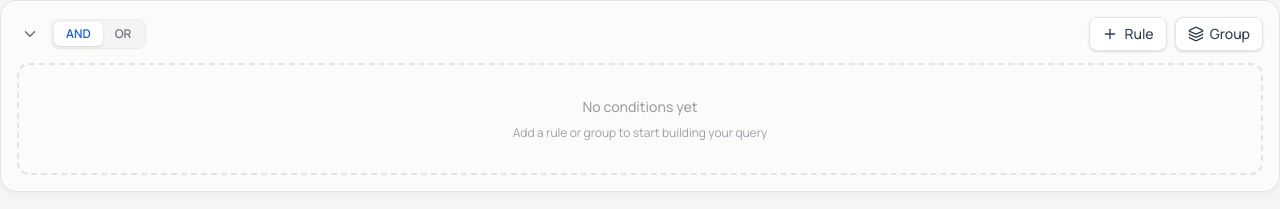
Test: QueryBuilder Integration › can add a rule to the root group
Click the button "Rule": x=1128, y=34 [1090,17,1167,51]
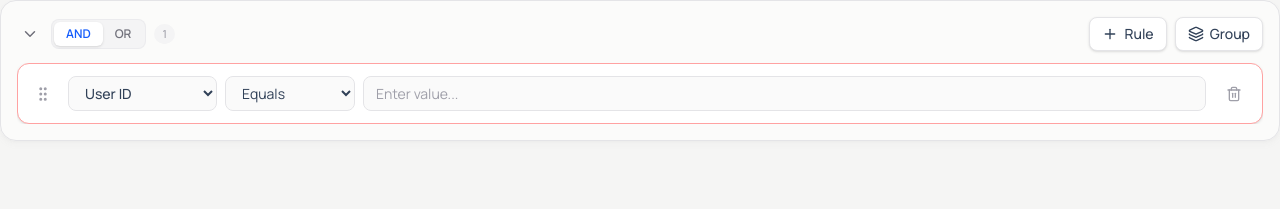
Expected: the text "No conditions yet" is gone
Expected: the number of dropdowns is 2, [68,76,217,111]; [225,76,355,111]
Expected: the 1st dropdown shows "User ID", [68,76,217,111]
